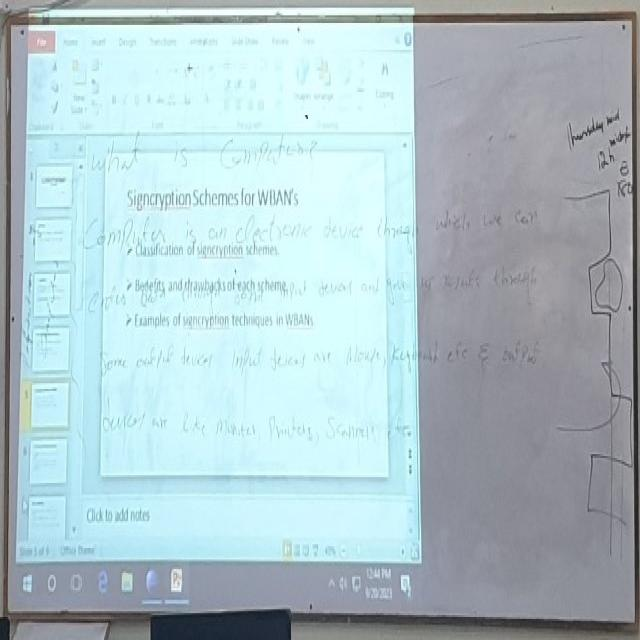Slide: (16, 8, 423, 602)
White-board: (6, 17, 637, 628)
